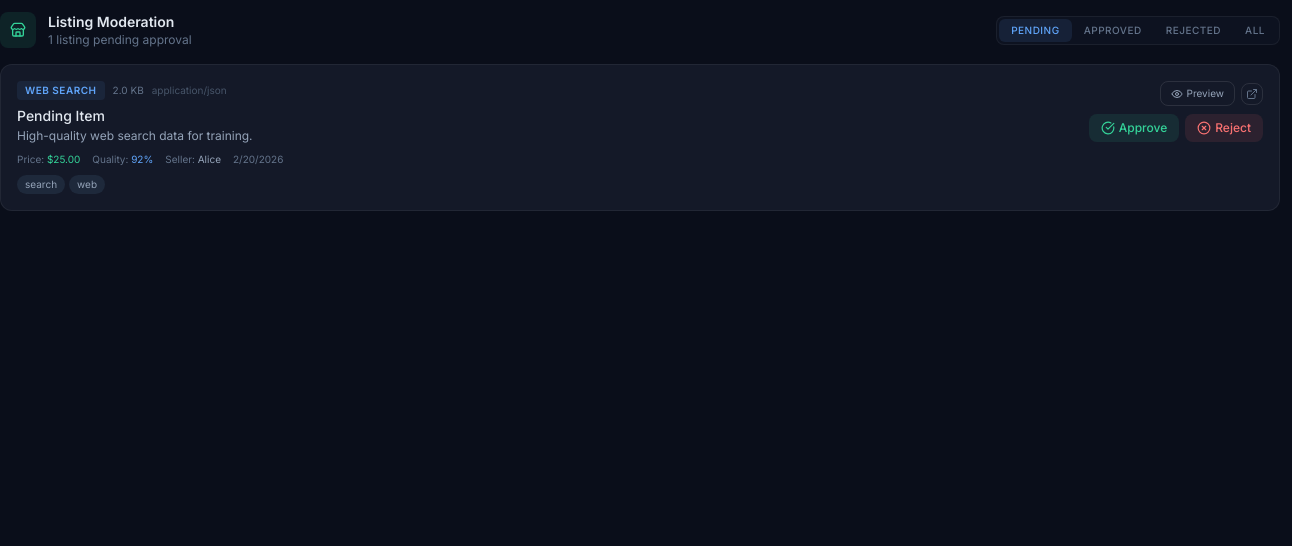
Test: ListingModeration › status tabs filter listings - all tab shows everything
Click the button "all" at x=1255, y=30, box x1=1233 y1=18 x2=1277 y2=42
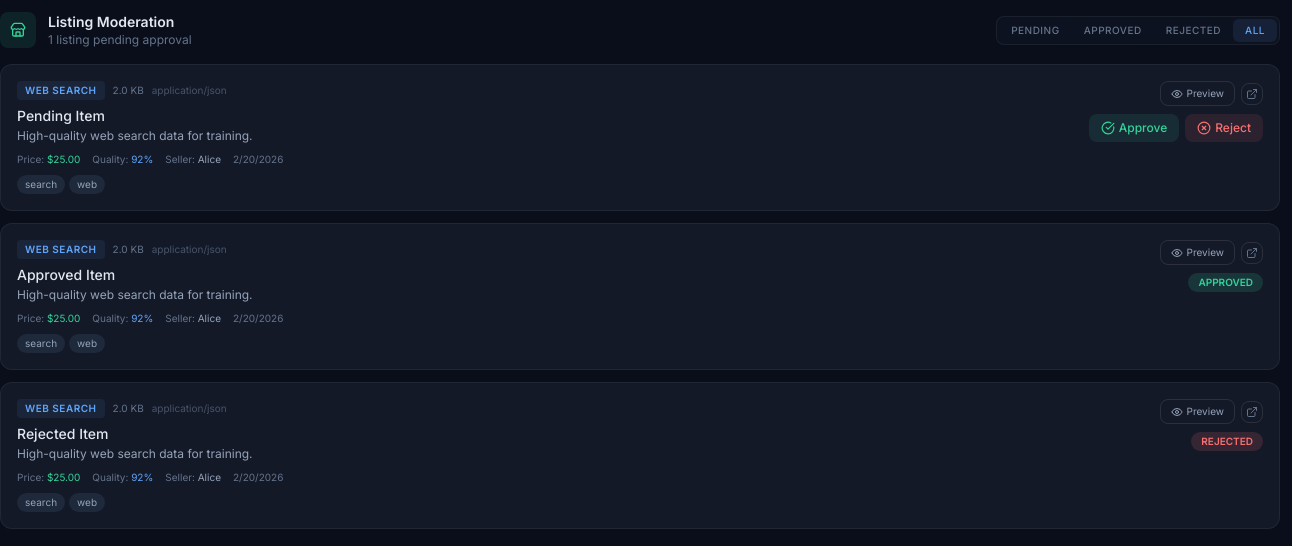
Expected: the heading "Pending Item" is shown, x1=17 y1=107 x2=105 y2=124
Now the heading "Approved Item" is shown, box x1=17 y1=266 x2=115 y2=283
Now the heading "Rejected Item" is shown, box x1=17 y1=425 x2=108 y2=442
